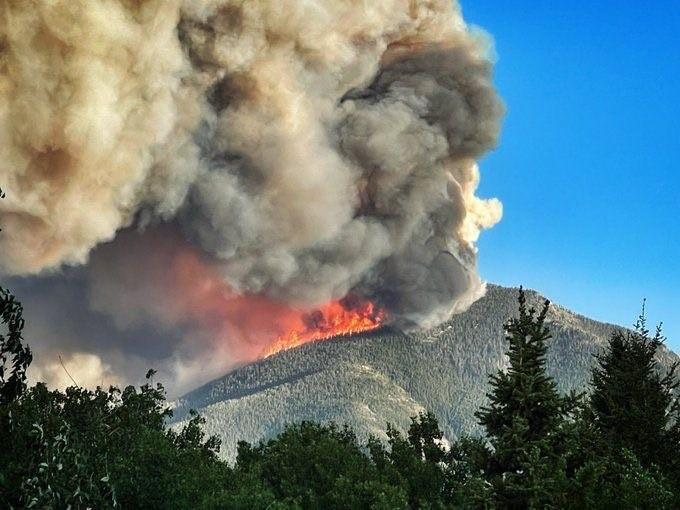fire: (263, 303, 383, 359)
smoke: (0, 0, 571, 283), (383, 5, 521, 339)
